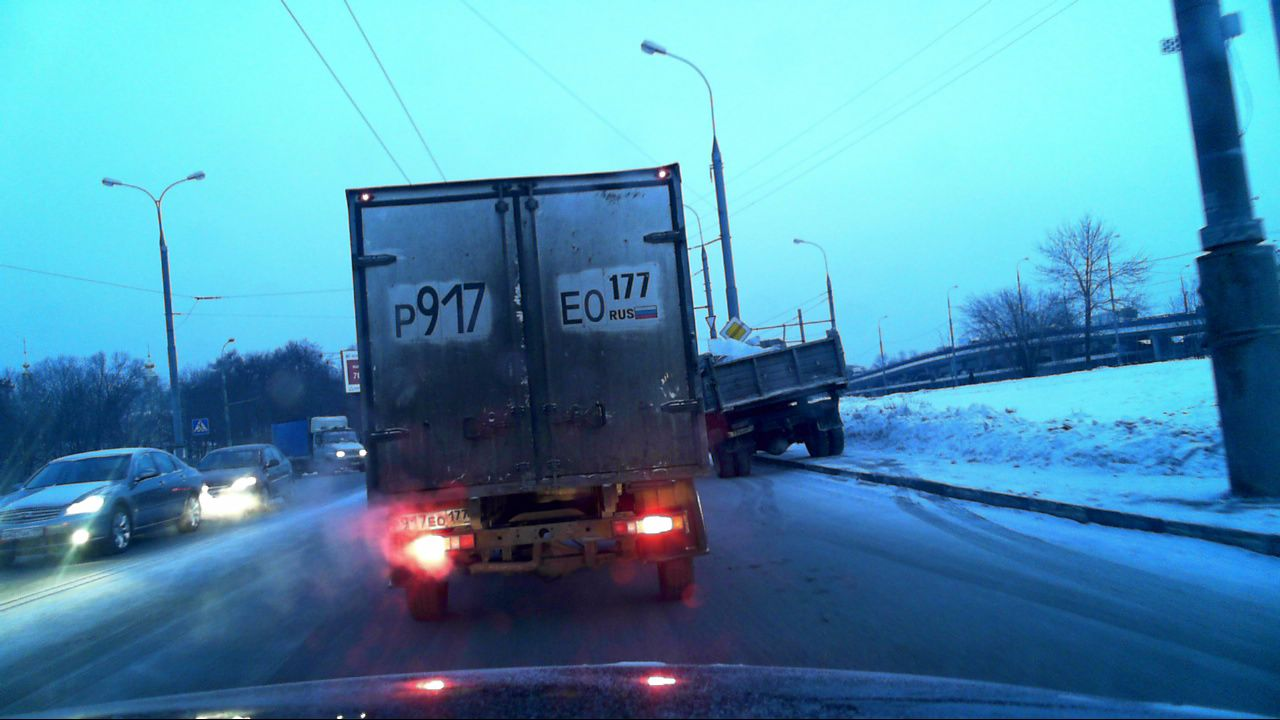main road: (720, 315, 751, 346)
